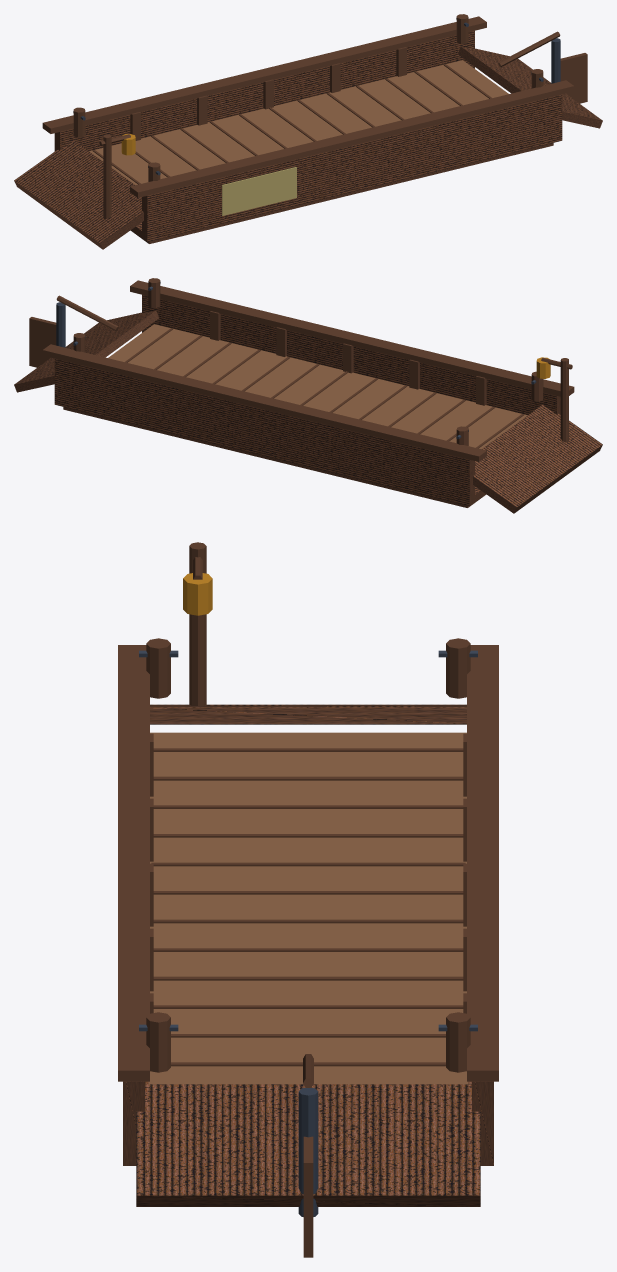
File: transbordador.glb
3 renders of one model, top to bottom at view 1: azimuth 30°, elevation 25°; view 2: azimuth 150°, elevation 25°; view 3: azimuth 270°, elevation 25°, orthographic. The views are drawn at different scales.
Parts seen in each view (by area): view 1: Cube.005, Cube.007, Cube.003, Cube.001, Cube.006, Cube.004, Cube.002, Cube.032, Cube, Cube.031, Cylinder.008, Cylinder.011 (+3 smaller); view 2: Cube.003, Cube.007, Cube.005, Cube.001, Cube.004, Cube.006, Cube.002, Cube, Cube.031, Cylinder.008, Cylinder.011, Cylinder.012 (+1 smaller); view 3: Cube.007, Cube.002, Cube.004, Cube.006, Cube.001, Cylinder.008, Cylinder.011, Cube.012, Cube.009, Cube.016, Cube.014, Cube.003 (+15 smaller).
Part boxes in pixels (left/top/right/bottom): Cube.005: left=142, top=94, right=562, bottom=241; Cube.007: left=89, top=60, right=508, bottom=185; Cube.003: left=54, top=30, right=474, bottom=151; Cube.001: left=14, top=141, right=143, bottom=249; Cube.006: left=130, top=80, right=574, bottom=197; Cube.004: left=42, top=16, right=486, bottom=133; Cube.002: left=458, top=46, right=602, bottom=128; Cube.032: left=222, top=167, right=296, bottom=215; Cube: left=130, top=143, right=553, bottom=243; Cube.031: left=560, top=53, right=587, bottom=103; Cylinder.008: left=103, top=134, right=111, bottom=218; Cylinder.011: left=551, top=38, right=560, bottom=83; Cube.003: left=54, top=358, right=474, bottom=505; Cube.007: left=108, top=324, right=527, bottom=449; Cube.005: left=142, top=294, right=560, bottom=415; Cube.001: left=473, top=405, right=602, bottom=513; Cube.004: left=42, top=344, right=486, bottom=461; Cube.006: left=130, top=280, right=574, bottom=396; Cube.002: left=14, top=310, right=158, bottom=392; Cube: left=63, top=407, right=486, bottom=507; Cube.031: left=29, top=317, right=56, bottom=367; Cylinder.008: left=560, top=358, right=568, bottom=442; Cylinder.011: left=56, top=302, right=65, bottom=347; Cylinder.012: left=56, top=295, right=118, bottom=330; Cube.007: left=148, top=732, right=468, bottom=1084; Cube.002: left=136, top=1084, right=480, bottom=1206; Cube.004: left=467, top=645, right=498, bottom=1081; Cube.006: left=118, top=645, right=149, bottom=1081; Cube.001: left=150, top=704, right=466, bottom=724; Cylinder.008: left=189, top=542, right=206, bottom=705; Cylinder.011: left=298, top=1088, right=318, bottom=1216; Cube.012: left=151, top=862, right=465, bottom=866; Cube.009: left=153, top=776, right=463, bottom=780; Cube.016: left=153, top=976, right=463, bottom=980; Cube.014: left=153, top=919, right=463, bottom=923; Cube.003: left=472, top=1081, right=493, bottom=1165.
Size of the model in its own units: 9.95 by 1.95 by 3.1.
7 materials, 1 textured.
